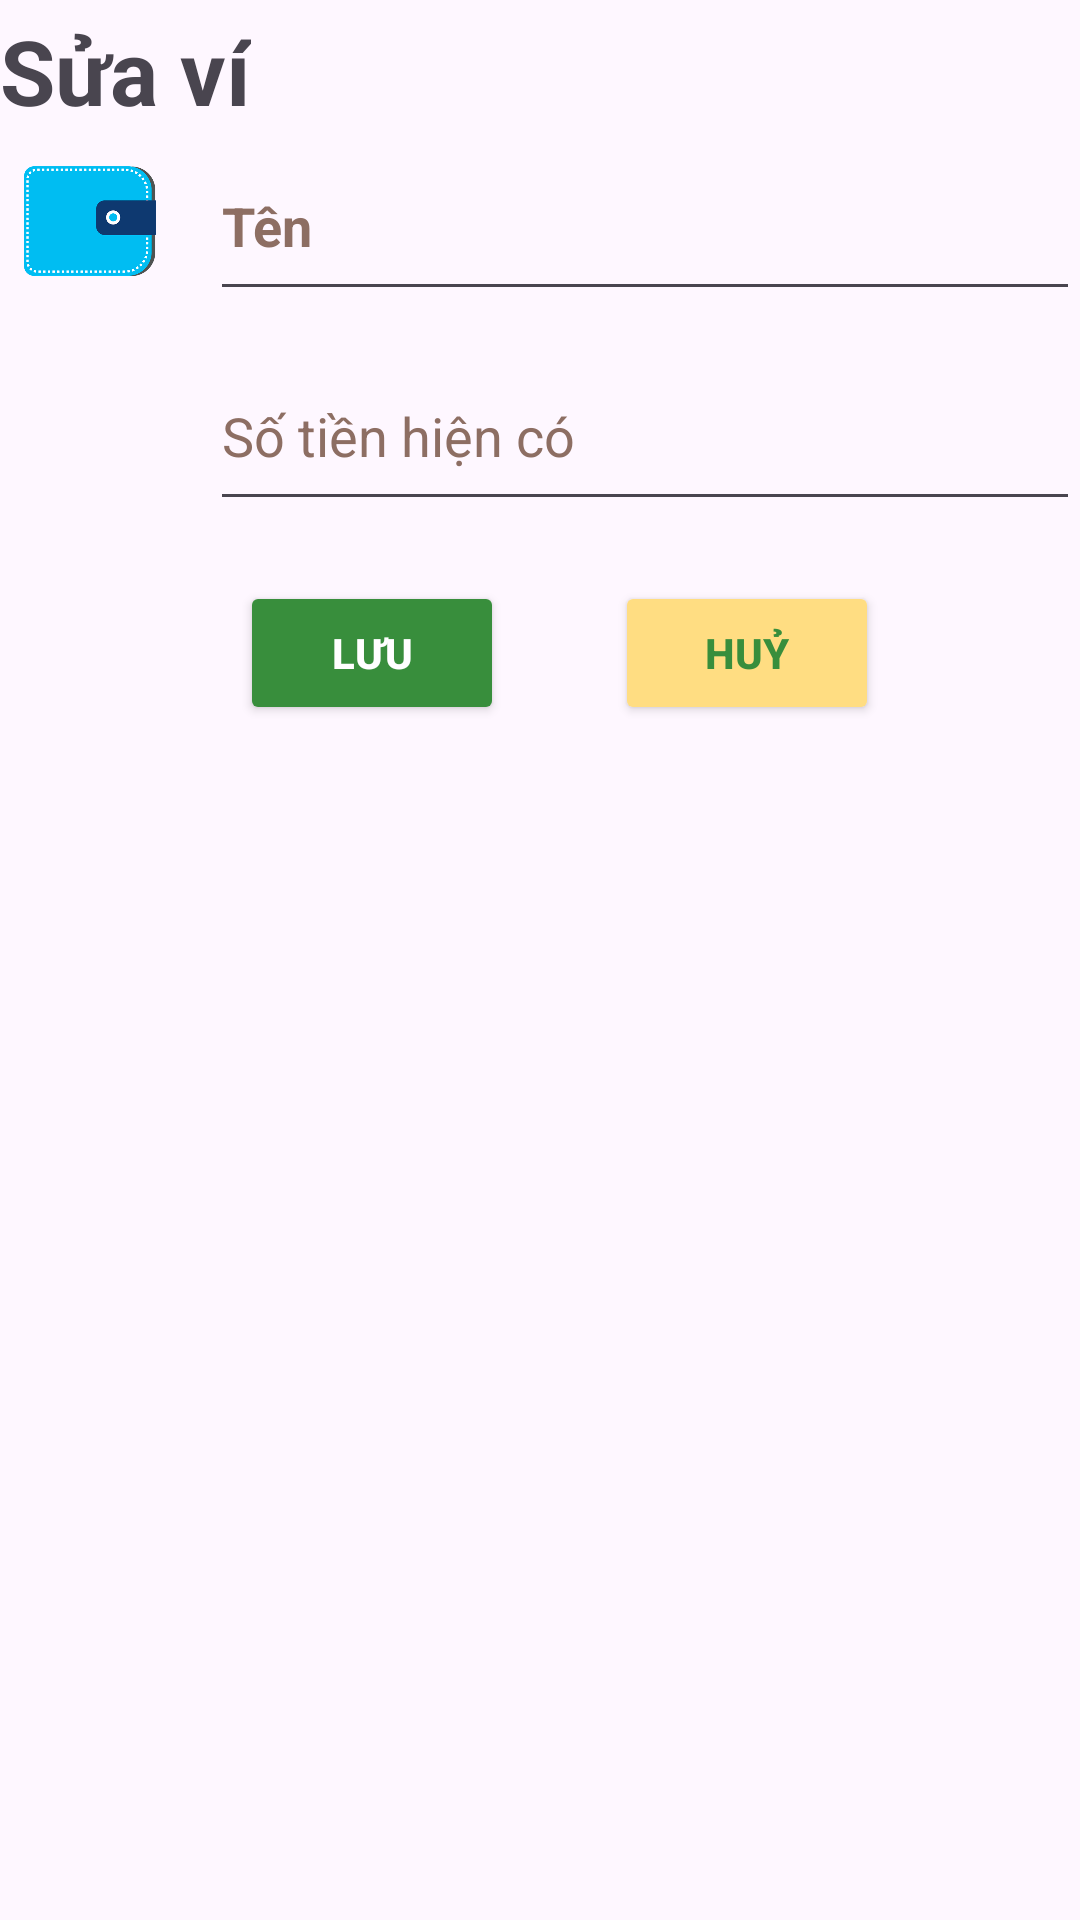

Where to tap for icons on this 1080×1920 app screen, as [x,y]:
wallet: [90,221]
